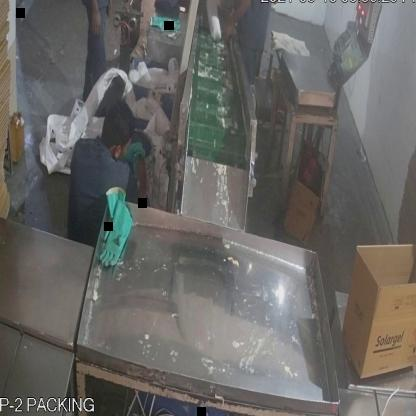no_glove: (81, 0, 104, 37)
